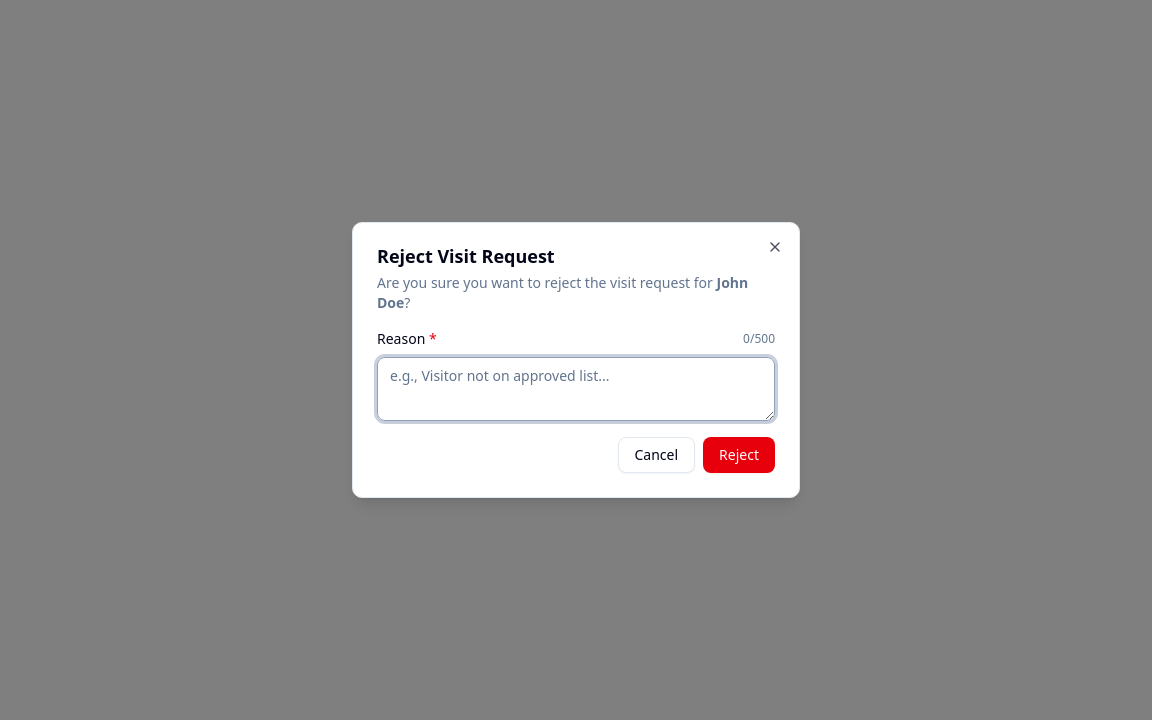
Test: RejectVisitDialog › Validation › should show error for empty reason
Click the button "Reject": (739,455) top-left (703, 437), bottom-right (775, 473)
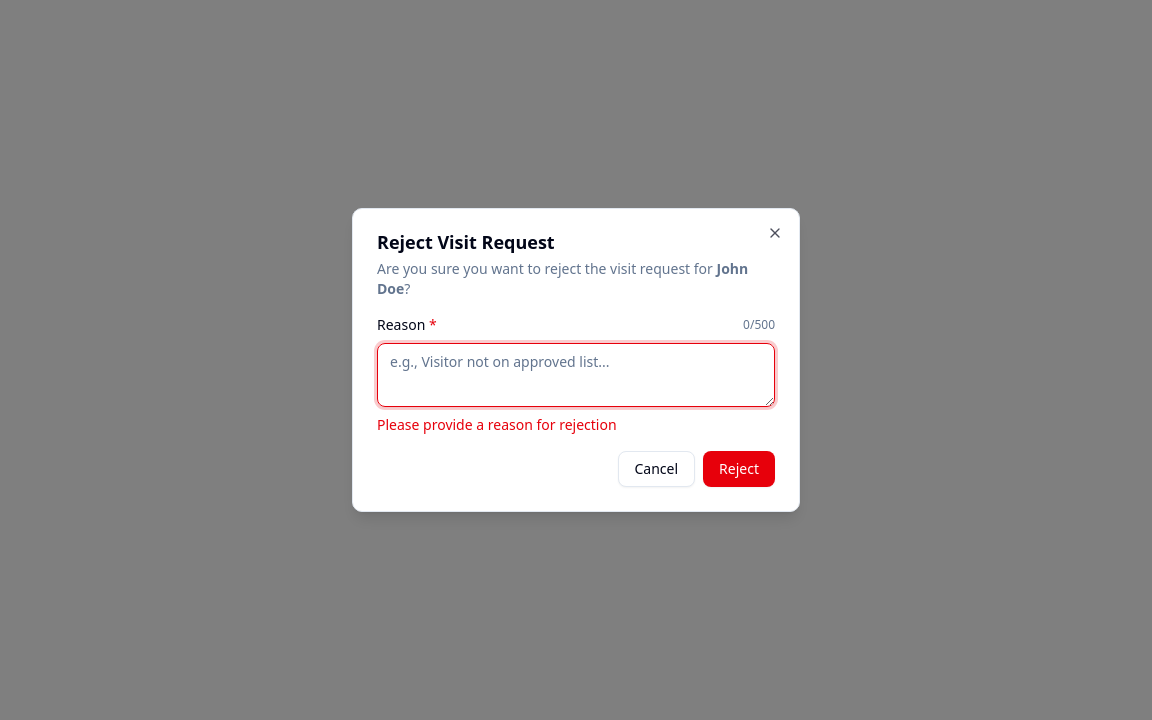
Now the text "Please provide a reason for rejection" is shown, box top-left (377, 415), bottom-right (617, 434)
